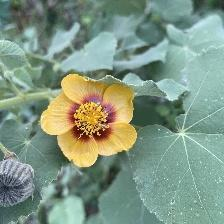indian mallow: (39, 72, 141, 171)
